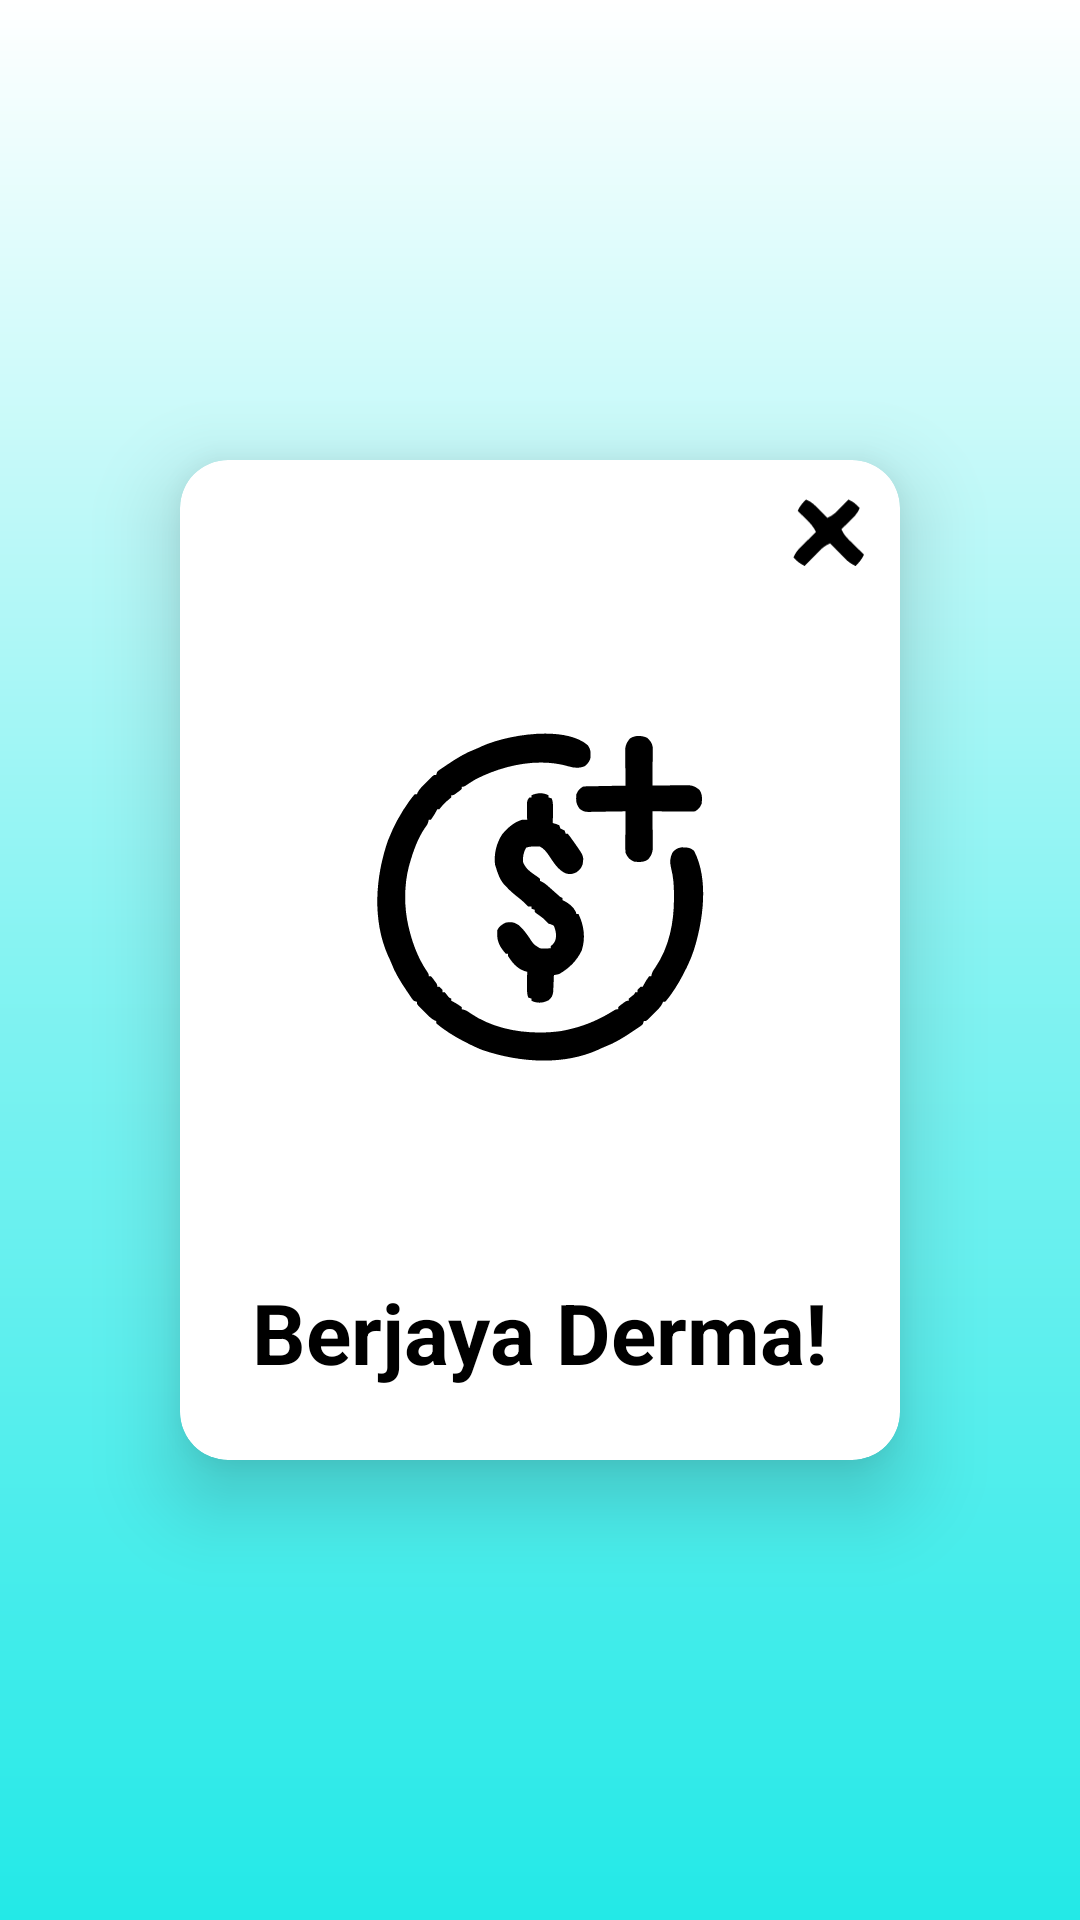

Icons on this 1080px×1920px Android screen, each with the point to tap as point (x, y):
Close: point (828, 532)
